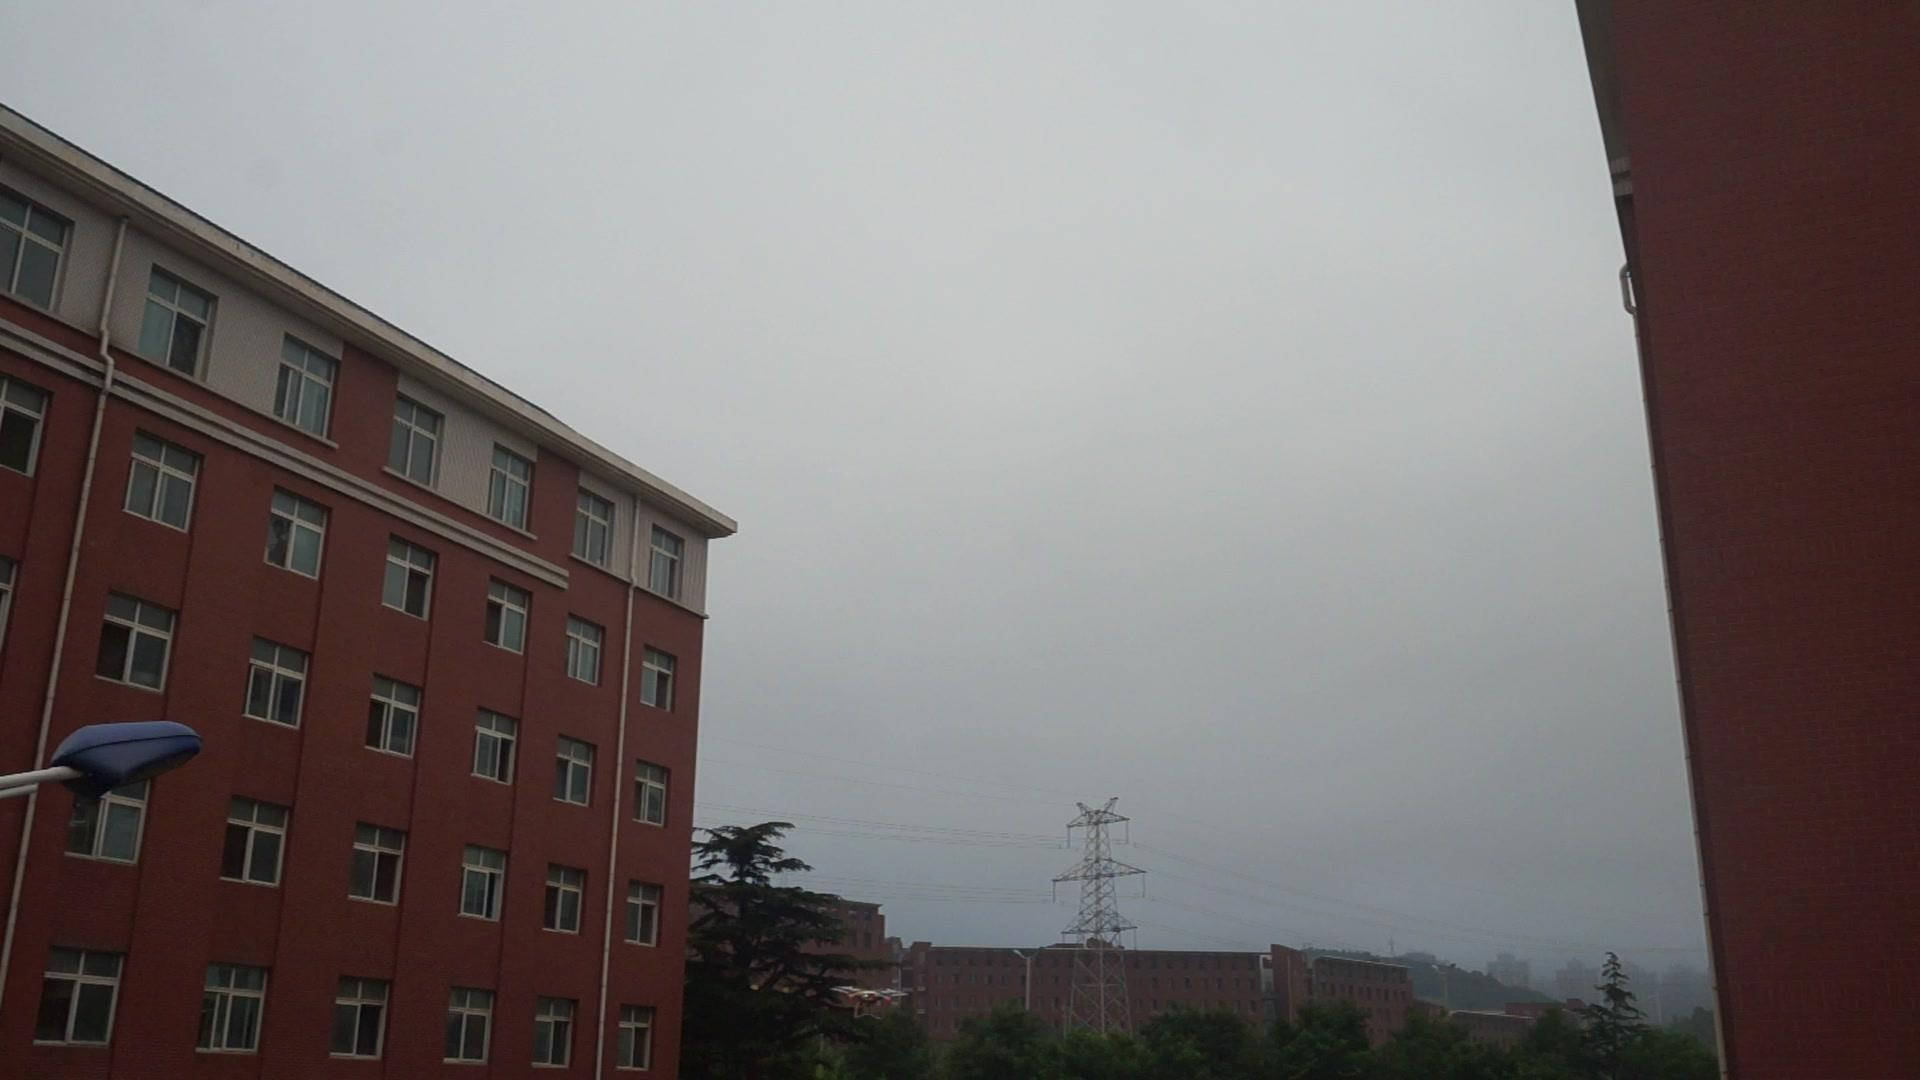UAV: (831, 986, 909, 1021)
